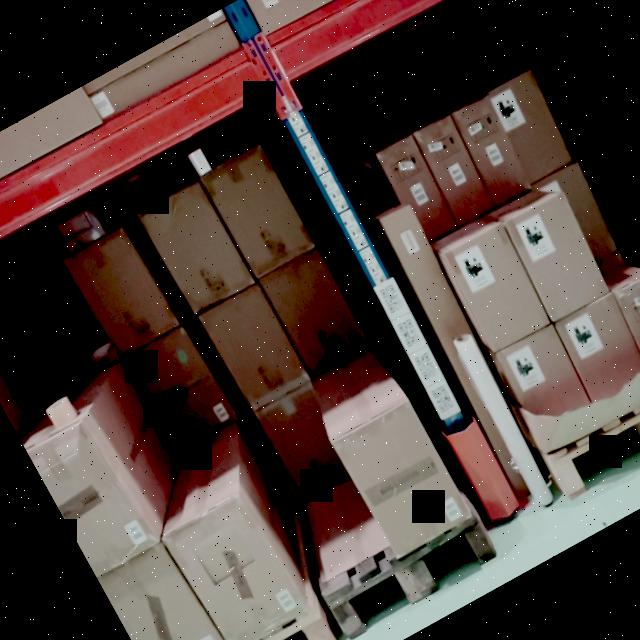box: (165, 494, 310, 640), (334, 400, 468, 550), (199, 141, 319, 279), (140, 181, 253, 313), (69, 229, 180, 363), (198, 280, 311, 410), (446, 230, 552, 354), (508, 195, 612, 319), (262, 251, 364, 368), (130, 327, 232, 444), (411, 115, 501, 232), (449, 96, 535, 204), (378, 143, 452, 238)
